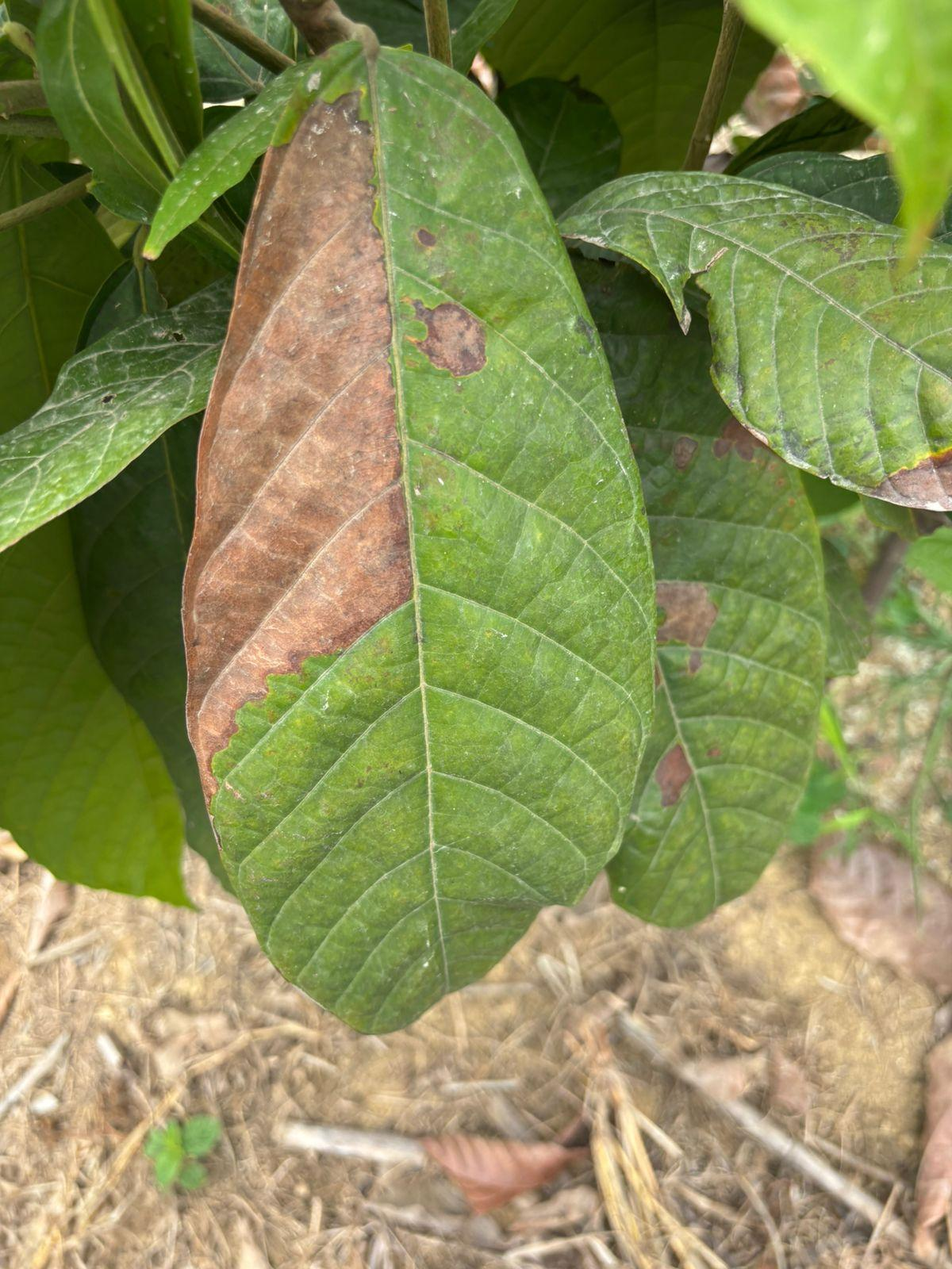Potasio: (183, 44, 653, 1030), (561, 172, 951, 511)
